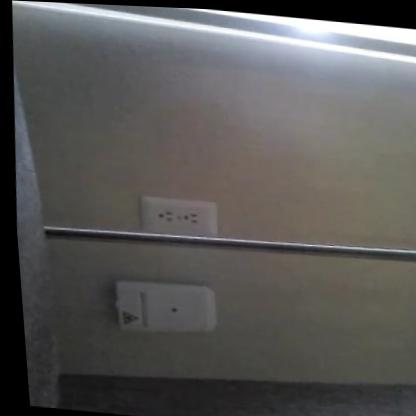OUTLET: (138, 194, 218, 237)
